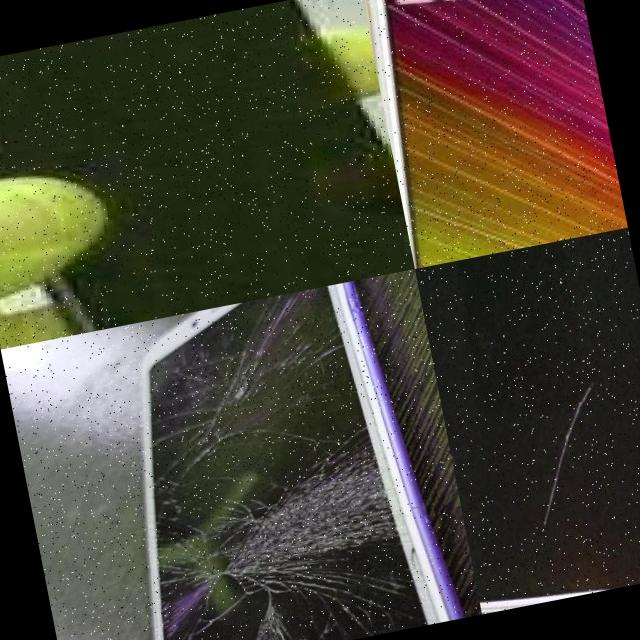scratch: (511, 370, 618, 530), (448, 444, 472, 534)
screen crack: (71, 269, 478, 640)
